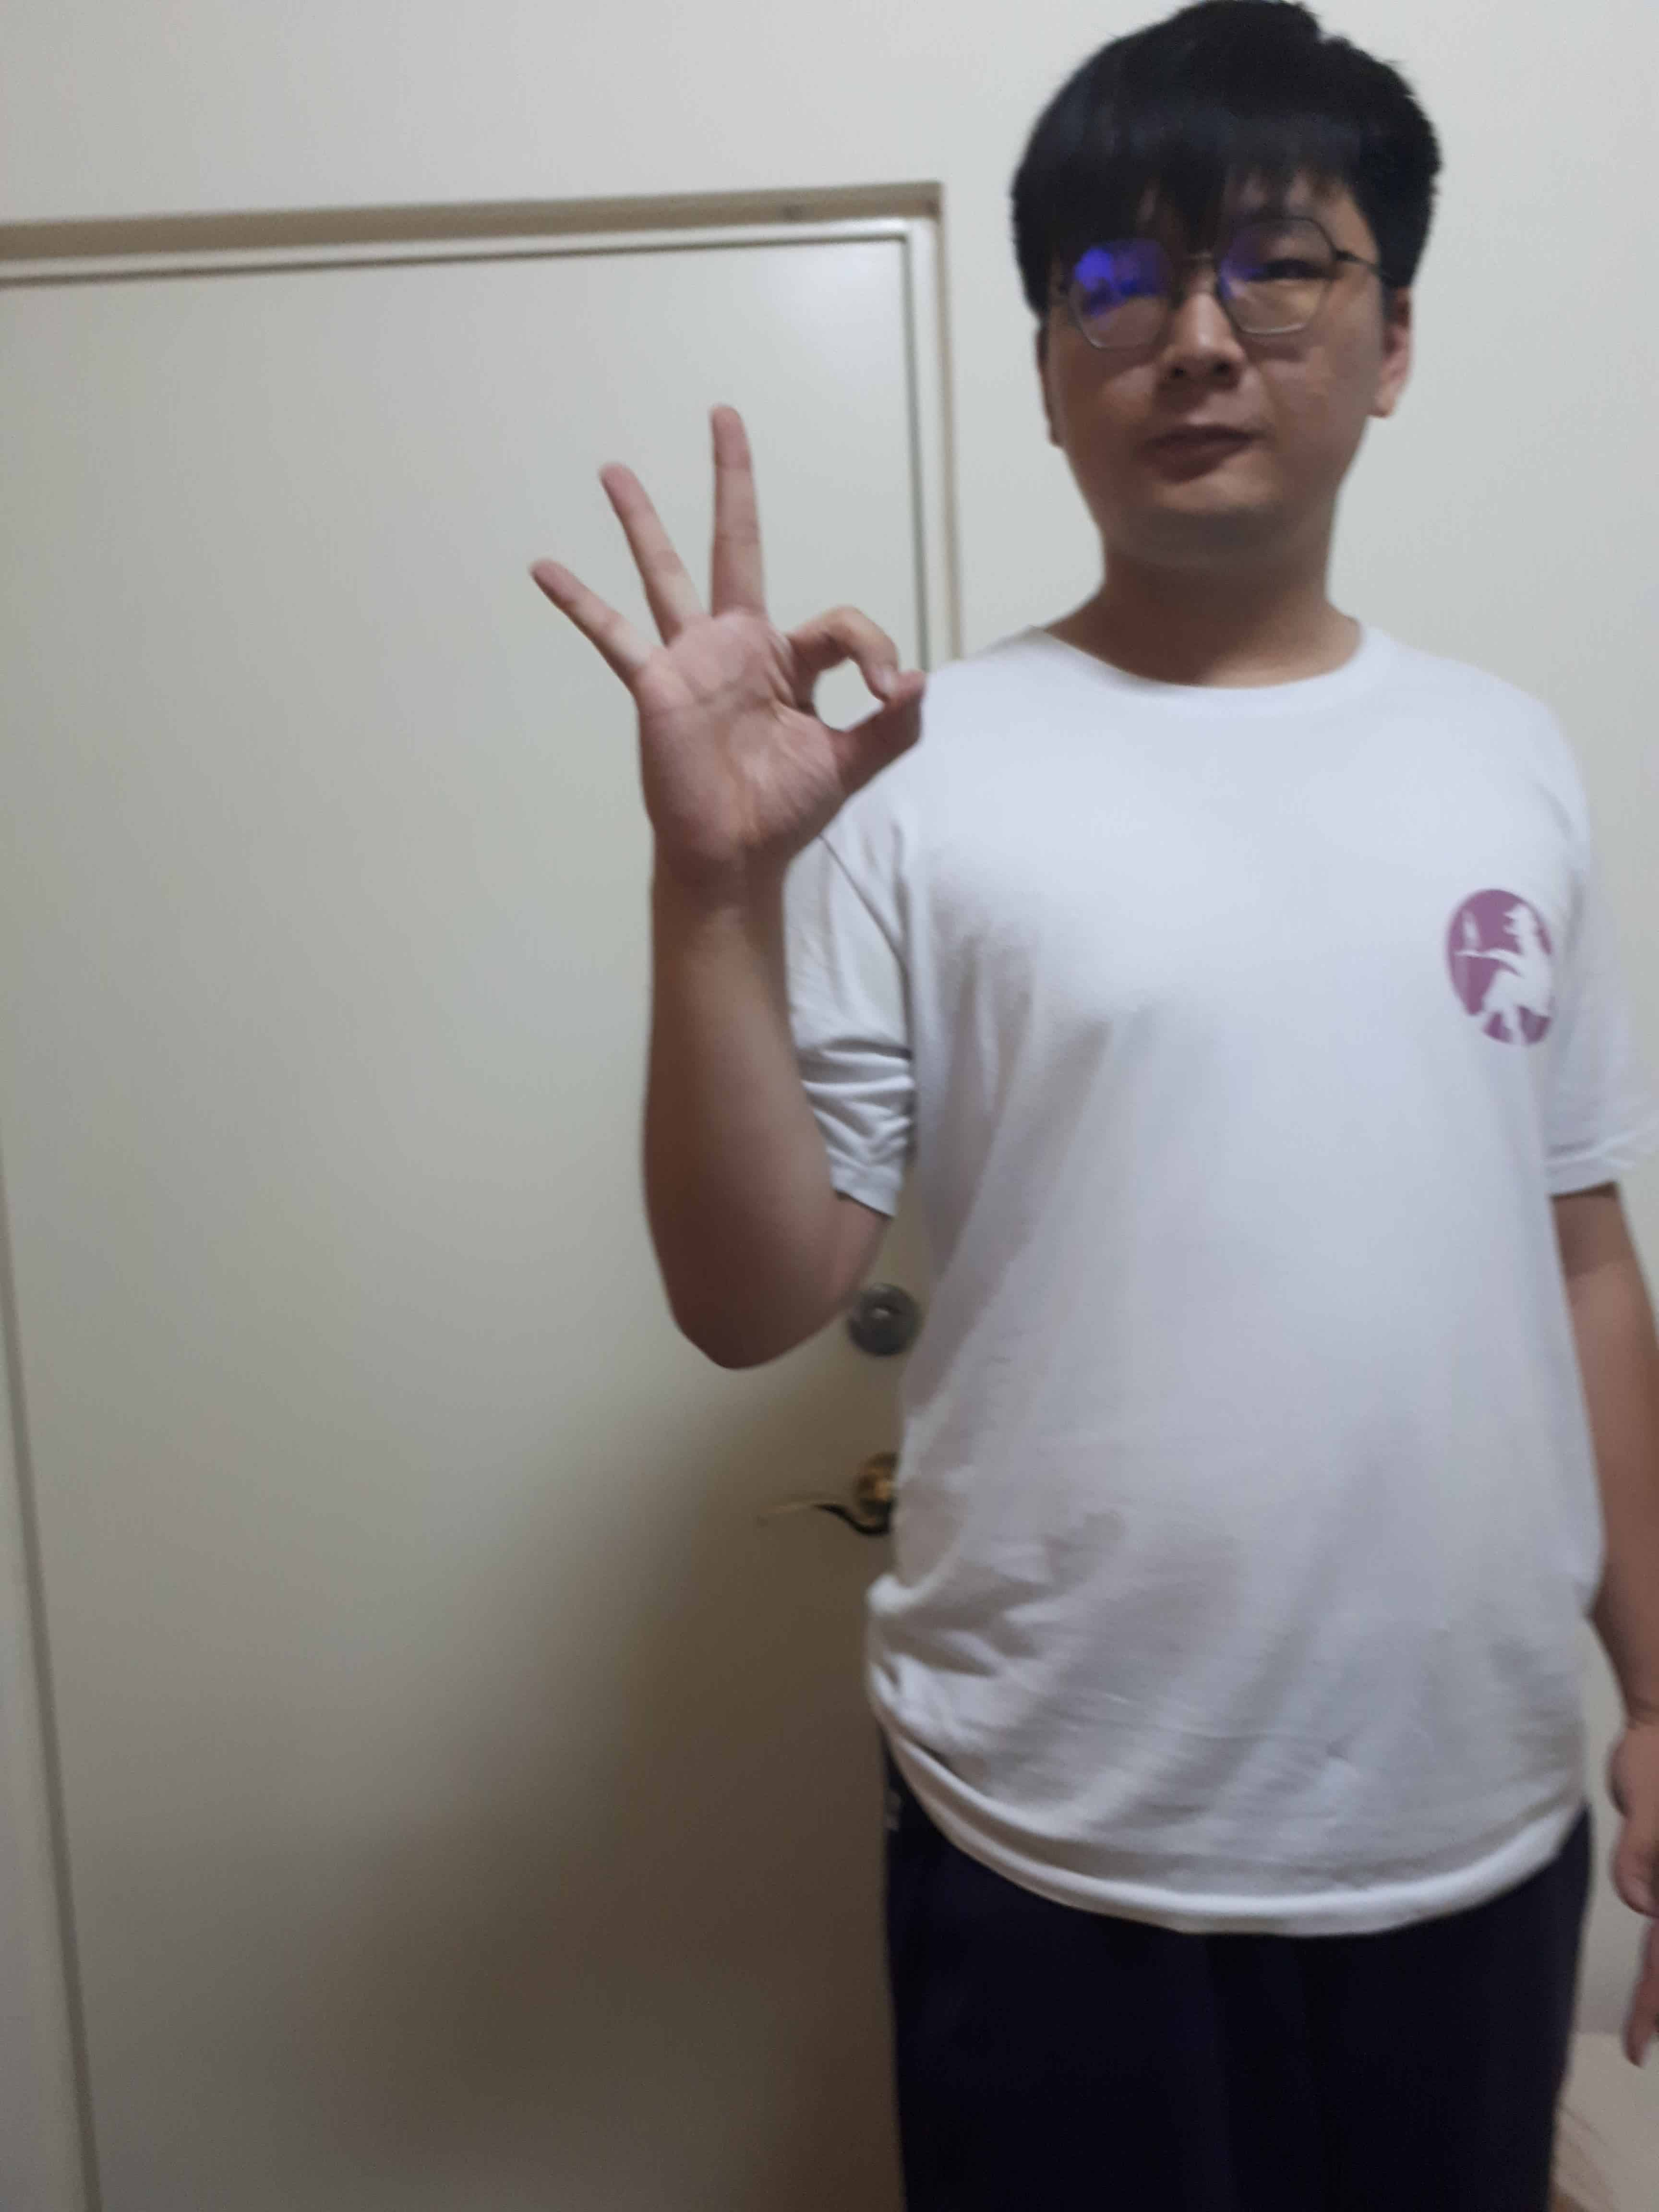ok: (519, 385, 938, 907)
